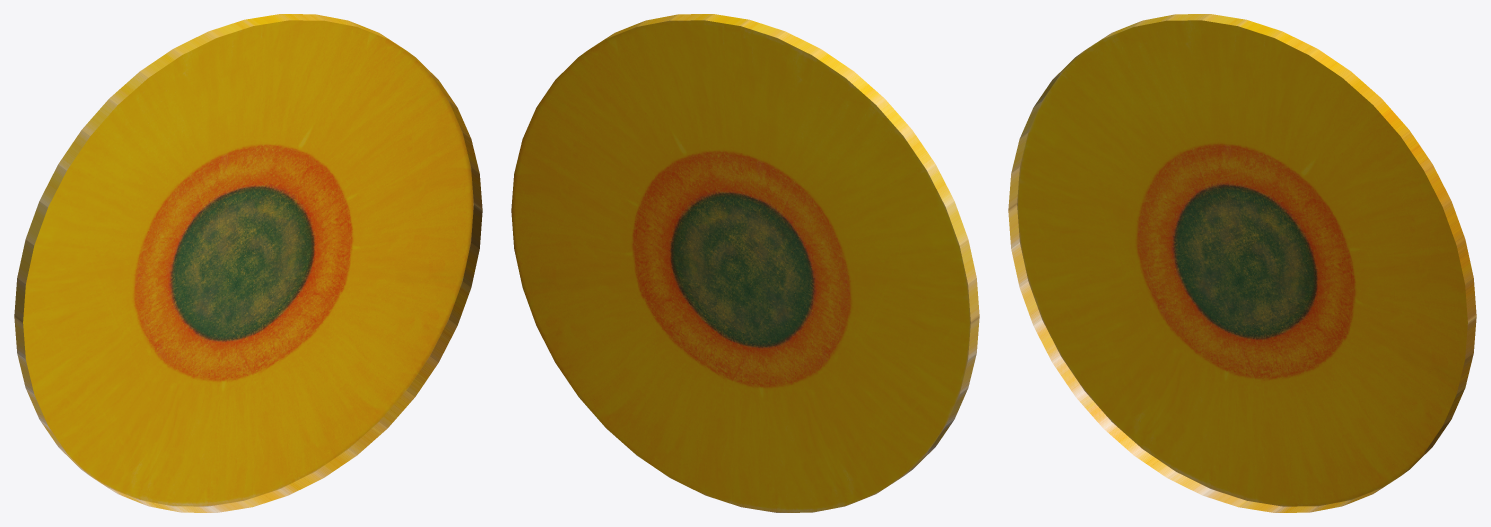
File: girasol_test.gltf
3 views of the same model, side by side, from view 1: azimuth 30°, elevation 25°; view 2: azimuth 150°, elevation 25°; view 3: azimuth 330°, elevation 25° (orthographic).
Parts seen in each view (by area): view 1: Disc; view 2: Disc; view 3: Disc.
Part boxes in pixels (<box>): Disc: <box>14,14,482,512</box>; Disc: <box>511,14,979,512</box>; Disc: <box>1008,14,1476,512</box>.
Size of the model in its own units: 33.45 by 33.45 by 1.1.
Materials: 1 (1 with a texture image).
